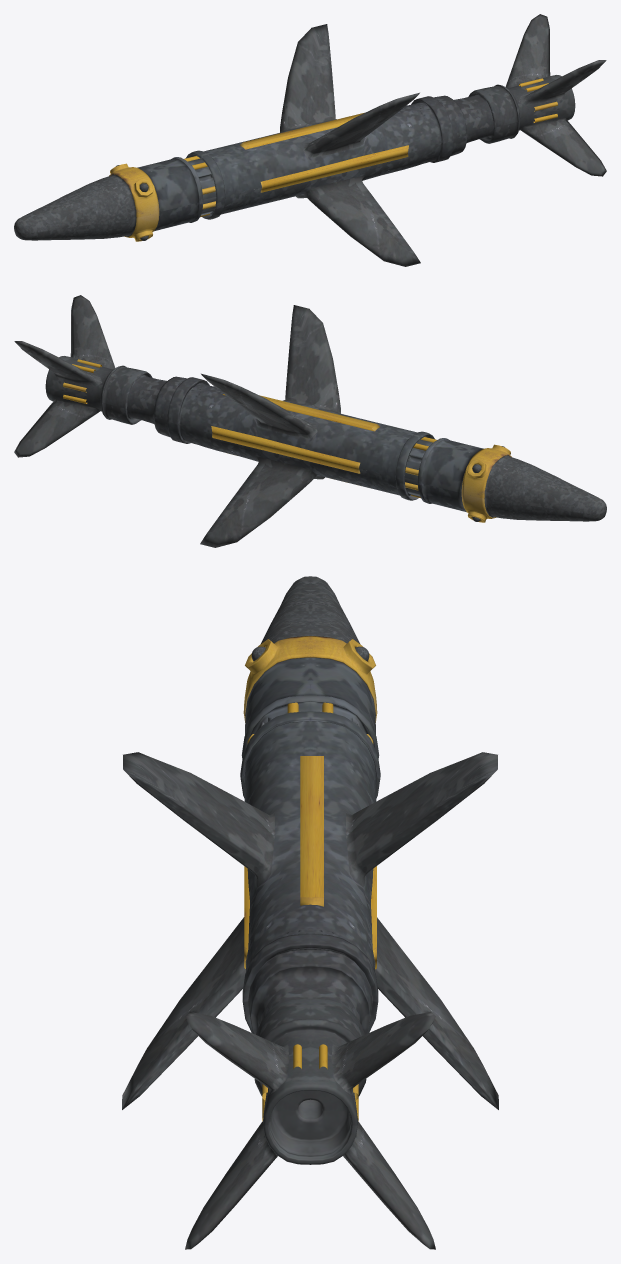
The model's file is missile.fbx.
3 renders of one model, top to bottom at view 1: azimuth 30°, elevation 25°; view 2: azimuth 150°, elevation 25°; view 3: azimuth 270°, elevation 25°, orthographic. The views are drawn at different scales.
Visible parts, largest first — view 1: Missile, Missile_side_Ext; view 2: Missile, Missile_side_Ext; view 3: Missile, Missile_side_Ext.
Boxes of the visible parts, <box> form: Missile: <box>14,14,606,266</box>; Missile_side_Ext: <box>239,112,408,192</box>; Missile: <box>14,295,606,547</box>; Missile_side_Ext: <box>211,394,379,473</box>; Missile: <box>122,576,498,1249</box>; Missile_side_Ext: <box>244,756,376,969</box>.
Bounding box in the file's own units: 9.71 × 2.82 × 2.83.
